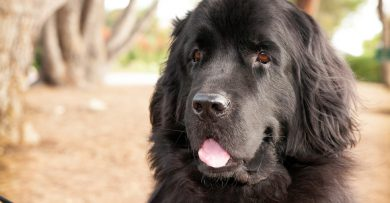dog: (141, 3, 361, 203)
